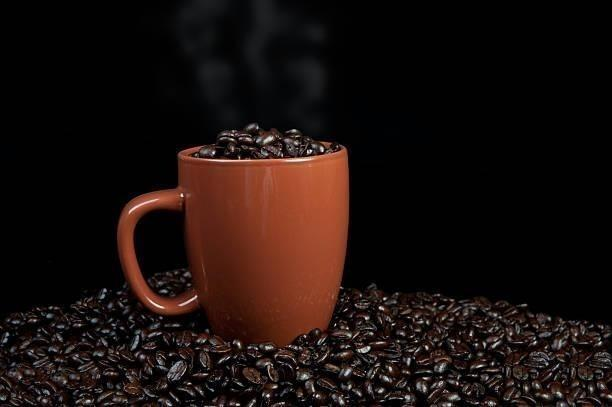cup-handle: (116, 135, 352, 352)
